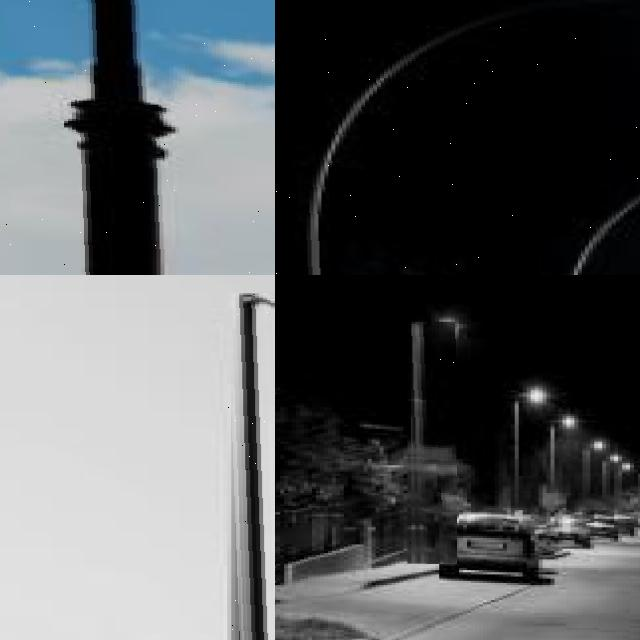street light: (275, 0, 640, 275), (294, 0, 640, 275), (0, 0, 275, 275), (227, 293, 275, 640), (408, 322, 457, 564), (514, 391, 544, 526), (550, 416, 576, 526), (586, 442, 606, 518)
